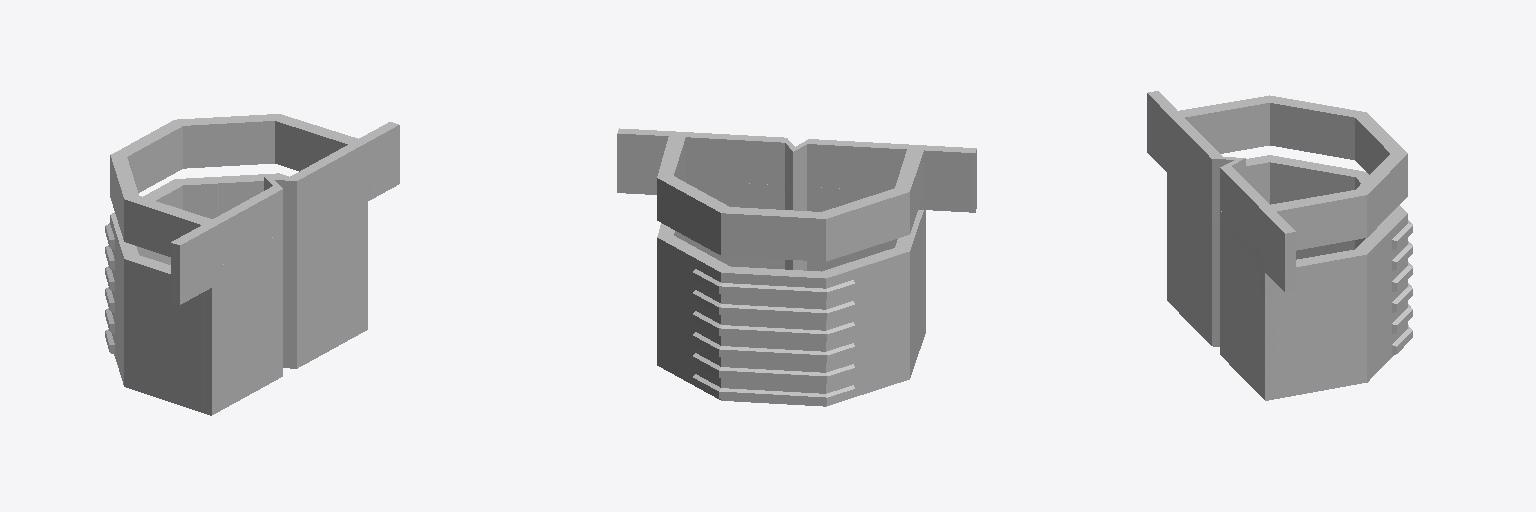
File: 868227_componente 139434.obj
3 renders of one model, left to right at view 1: azimuth 30°, elevation 25°; view 2: azimuth 150°, elevation 25°; view 3: azimuth 270°, elevation 25°, orthographic.
Parts seen in each view (by area): view 1: Cylinder001; view 2: Cylinder001; view 3: Cylinder001.
Part boxes in pixels (left/top/right/bottom): Cylinder001: left=105, top=114, right=399, bottom=415; Cylinder001: left=617, top=128, right=976, bottom=406; Cylinder001: left=1147, top=91, right=1412, bottom=400.
Bounding box in the file's own units: 1.96 × 1.2 × 1.54.